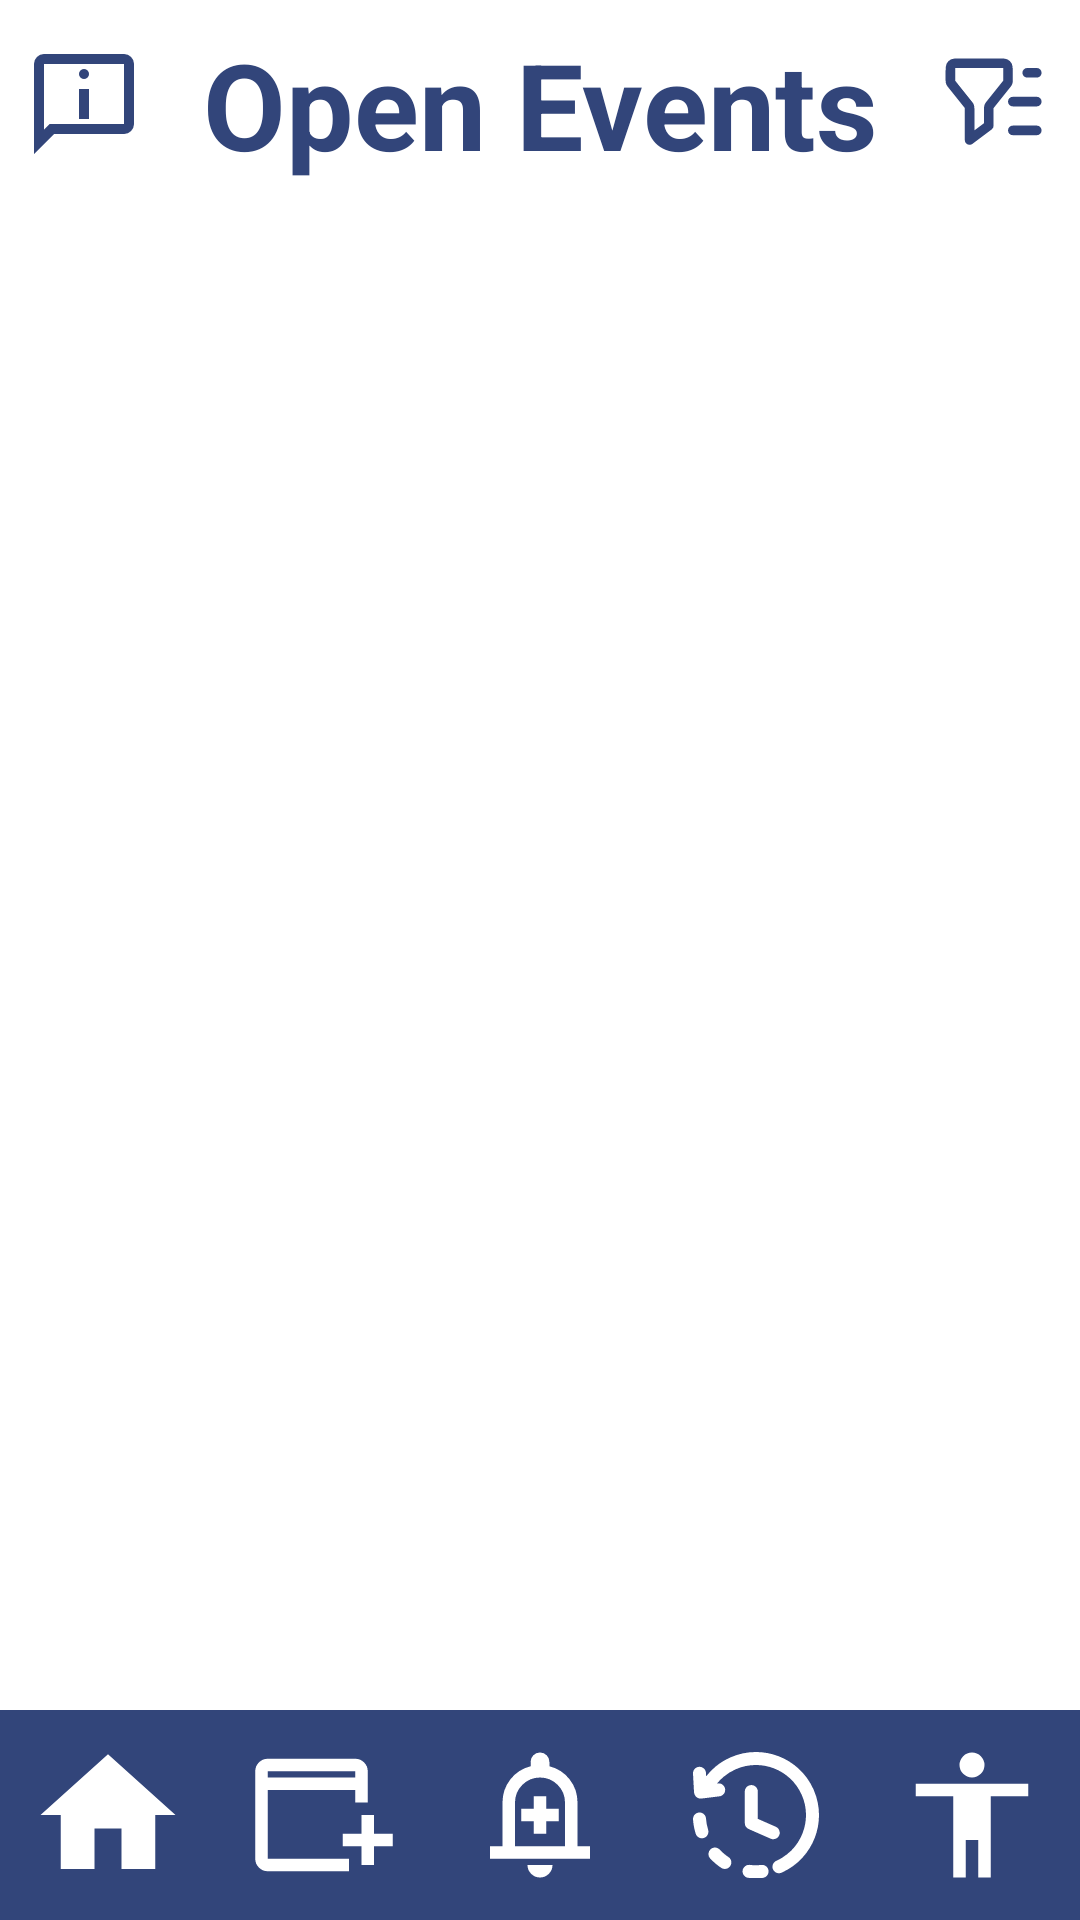

Screen size 1080*1920. Icon name, then its box in pixels as (x1,y1,x2,y2):
event: (255,1758,393,1872)
filter: (945,58,1042,145)
history: (693,1752,819,1878)
home: (41,1754,175,1869)
lotteryinfo: (34,54,134,154)
notification: (490,1752,590,1878)
profile: (915,1752,1029,1878)
